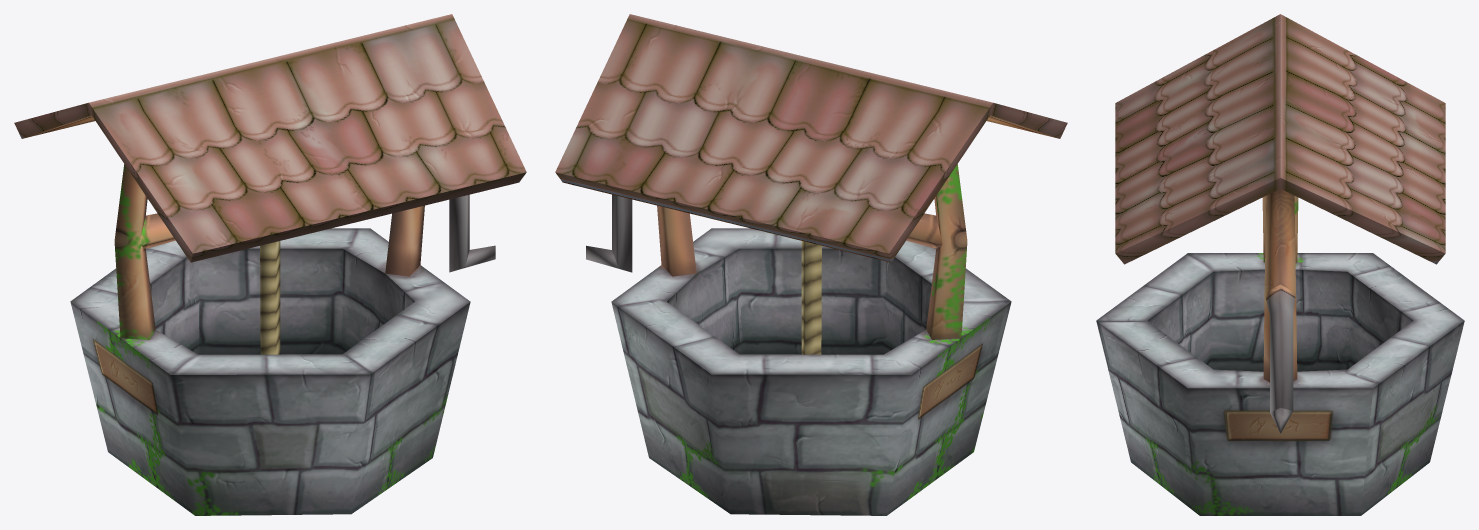
File: BKS_Set3_WellB.fbx
The picture shows the model from 3 angles, left to right: view 1: azimuth 30°, elevation 25°; view 2: azimuth 150°, elevation 25°; view 3: azimuth 270°, elevation 25°; orthographic projection. The views are drawn at different scales.
Parts seen in each view (by area): view 1: wellB; view 2: wellB; view 3: wellB.
Boxes of the visible parts, x1=… form: wellB: x1=14, y1=14, x2=526, y2=515; wellB: x1=555, y1=14, x2=1067, y2=515; wellB: x1=1096, y1=14, x2=1464, y2=515.
Bounding box in the file's own units: 3.93 × 3.66 × 3.34.
